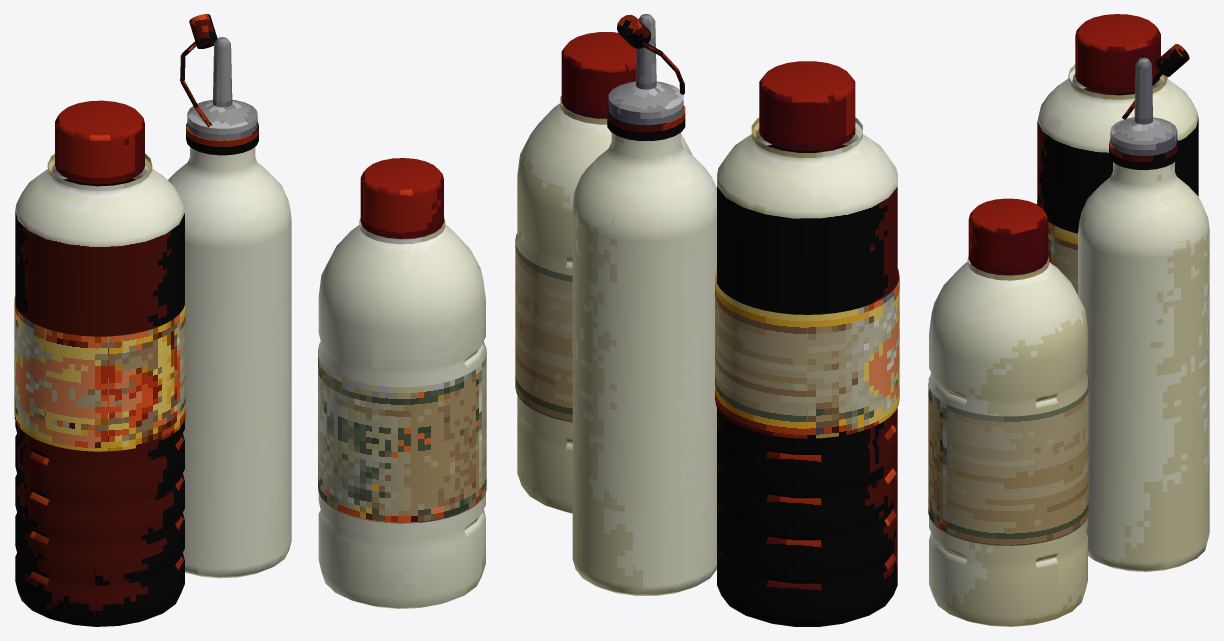
The model's file is condiments.glb.
3 views of the same model, side by side, from view 1: azimuth 30°, elevation 25°; view 2: azimuth 150°, elevation 25°; view 3: azimuth 270°, elevation 25° (orthographic). The views are drawn at different scales.
Parts seen in each view (by area): view 1: mesh; view 2: mesh; view 3: mesh.
Boxes of the visible parts, x1=… form: mesh: x1=14, y1=14, x2=486, y2=626; mesh: x1=515, y1=14, x2=899, y2=626; mesh: x1=928, y1=14, x2=1209, y2=626.
Bounding box in the file's own units: 0.1165 × 0.15 × 0.0762.
1 material, 1 textured.
